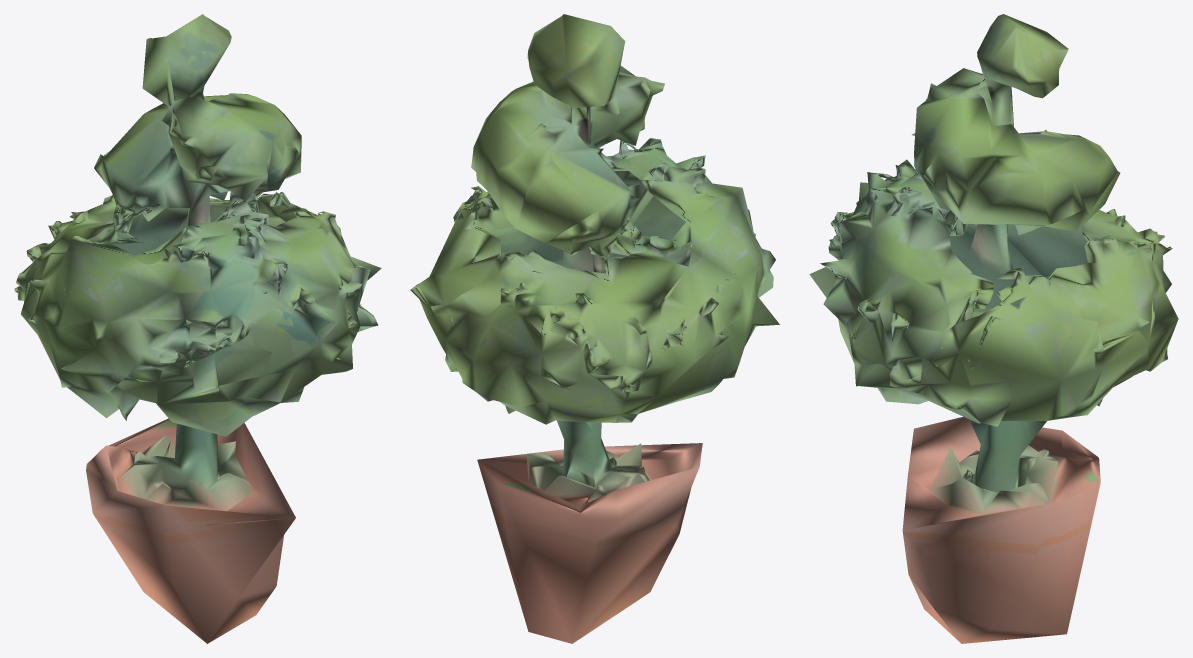
File: topiary_spiral.glb
3 views of the same model, side by side, from view 1: azimuth 30°, elevation 25°; view 2: azimuth 150°, elevation 25°; view 3: azimuth 270°, elevation 25° (orthographic). The views are drawn at different scales.
Visible parts, largest first — view 1: tripo_node_ac383d9e-6c80-460c-94c4-c0fffdb0d34c; view 2: tripo_node_ac383d9e-6c80-460c-94c4-c0fffdb0d34c; view 3: tripo_node_ac383d9e-6c80-460c-94c4-c0fffdb0d34c.
Part boxes in pixels (x1=…): tripo_node_ac383d9e-6c80-460c-94c4-c0fffdb0d34c: x1=14, y1=14, x2=381, y2=643; tripo_node_ac383d9e-6c80-460c-94c4-c0fffdb0d34c: x1=410, y1=14, x2=780, y2=643; tripo_node_ac383d9e-6c80-460c-94c4-c0fffdb0d34c: x1=809, y1=14, x2=1178, y2=643.
Size of the model in its own units: 0.5459 by 0.9738 by 0.5388.
Materials: 1 (1 with a texture image).
